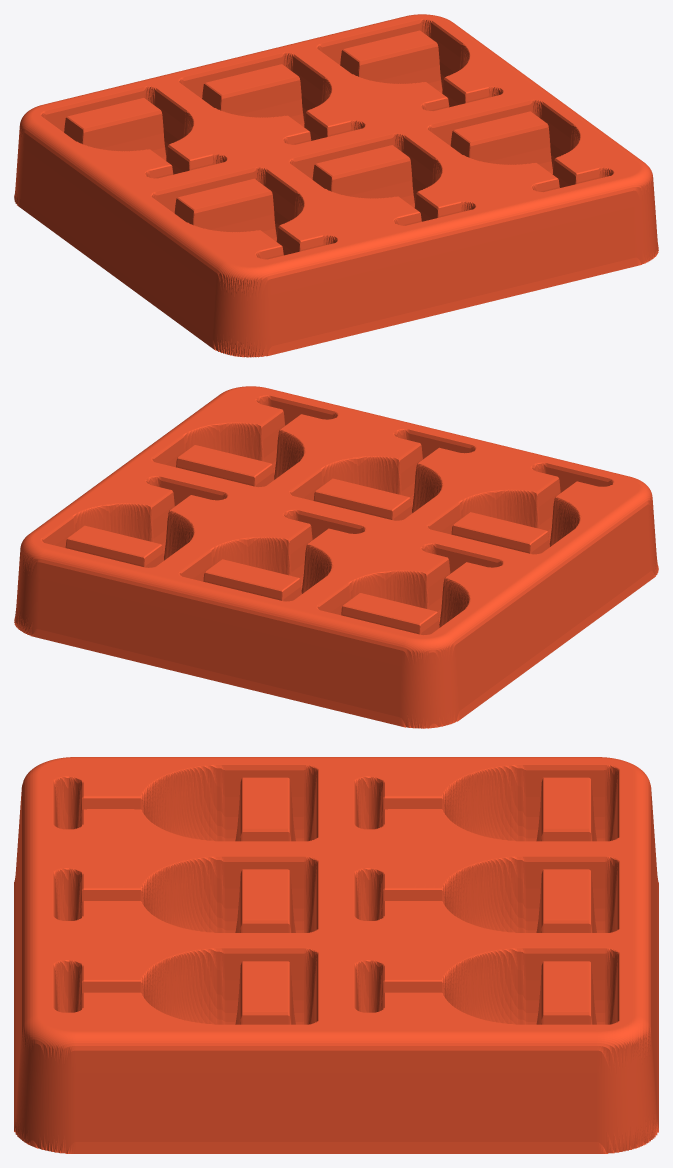
File: mold.glb
3 renders of one model, top to bottom at view 1: azimuth 30°, elevation 25°; view 2: azimuth 150°, elevation 25°; view 3: azimuth 270°, elevation 25°, orthographic. The views are drawn at different scales.
Visible parts, largest first — view 1: geometry_0; view 2: geometry_0; view 3: geometry_0.
Boxes of the visible parts, x1,y1,x2,y2 form: geometry_0: [14, 14, 658, 357]; geometry_0: [14, 386, 658, 728]; geometry_0: [14, 757, 658, 1153].
Bounding box in the file's own units: 0.1019 × 0.0182 × 0.0947.
